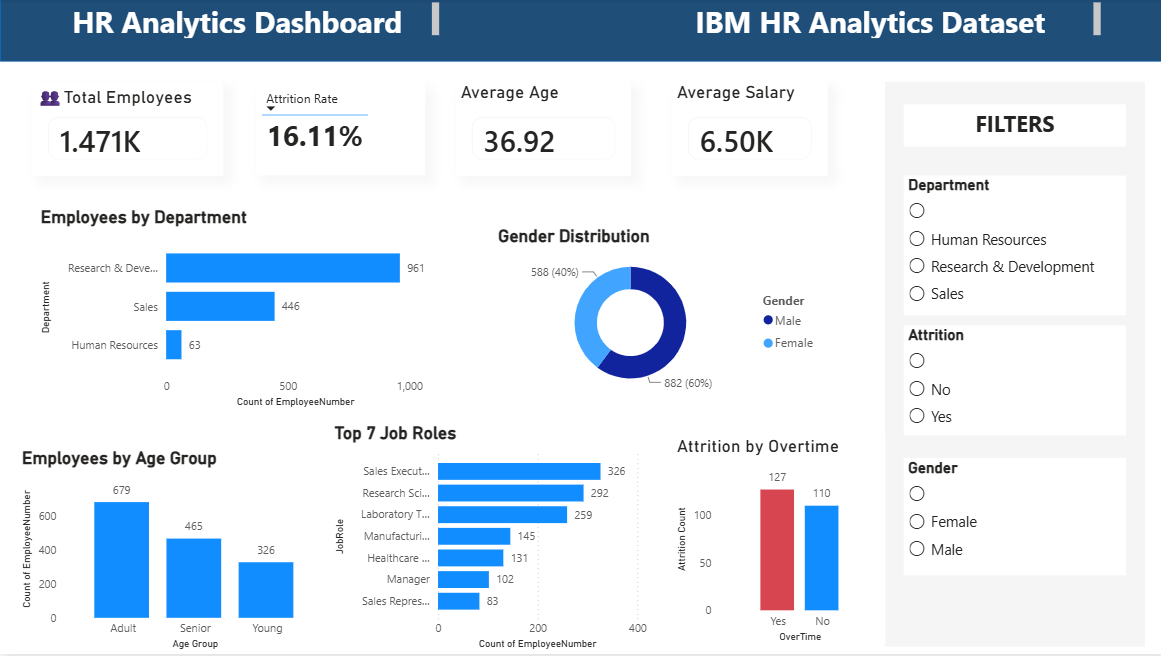

The page's visual inventory and layout, read from the dashboard file:
{"tool":"powerbi","page":{"name":"Page 1","canvas":[1280,720],"ordinal":0},"visuals":[{"type":"shape","box":[0,0,1280.3,70],"z":0},{"type":"shape","box":[971.5,91.9,285.4,620.2],"z":1000},{"type":"cardVisual","title":" 👥Total Employees","fields":{"Data":["Count(HR analysis 1.EmployeeNumber)"]},"box":[35.7,91.9,197.6,102.9],"z":2000},{"type":"cardVisual","title":"Average Age","fields":{"Data":["Avg(HR analysis 1.Age)"]},"box":[500.9,91.9,192.1,102.9],"z":3000},{"type":"cardVisual","title":"Average Salary ","fields":{"Data":["Avg(HR analysis 1.MonthlyIncome)"]},"box":[738.3,91.9,170.2,102.9],"z":4000},{"type":"clusteredBarChart","title":"Employees by Department","fields":{"Category":["HR analysis 1.Department"],"Y":["CountNonNull(HR analysis 1.EmployeeNumber)"]},"box":[39.8,229.2,447.3,225],"z":5000},{"type":"donutChart","title":"Gender Distribution","fields":{"Category":["HR analysis 1.Gender"],"Y":["CountNonNull(HR analysis 1.EmployeeNumber)"]},"box":[542,249.7,366.4,192.1],"z":6000},{"type":"clusteredColumnChart","title":"Employees by Age Group","fields":{"Category":["HR analysis 1.Age Group"],"Y":["CountNonNull(HR analysis 1.EmployeeNumber)"]},"box":[19.2,494,343.1,226.4],"z":7000},{"type":"clusteredBarChart","title":"Top 7 Job Roles","fields":{"Category":["HR analysis 1.JobRole"],"Y":["CountNonNull(HR analysis 1.EmployeeNumber)"]},"box":[362.3,466.6,352.7,253.9],"z":8000},{"type":"listSlicer","fields":{"Values":["HR analysis 1.Department"]},"box":[992.1,194.9,244.3,153.7],"z":9000},{"type":"listSlicer","fields":{"Values":["HR analysis 1.Gender"]},"box":[992.1,505,244.3,129],"z":10000},{"type":"listSlicer","fields":{"Values":["HR analysis 1.Attrition"]},"box":[992.1,359.5,244.3,120.8],"z":11000},{"type":"tableEx","fields":{"Values":["HR analysis 1.Attrition Rate"]},"box":[281.3,94.7,192.1,100.2],"z":12000},{"type":"clusteredColumnChart","title":"Attrition by Overtime","fields":{"Category":["HR analysis 1.OverTime"],"Y":["HR analysis 1.Attrition Count"]},"box":[738.3,480.3,233.3,231.9],"z":14000},{"type":"textbox","box":[992.1,116.6,244.3,46.7],"z":14001},{"type":"textbox","box":[74.1,0,413,49.4],"z":14002},{"type":"textbox","box":[754.7,0,458.3,49.4],"z":14003}]}

Visuals, with their boxes in screenshot pixels (x1, y1, x2, y2), scaled from the page's 1280x720 canvas onto the 1161x656 screenshot:
shape: bbox=[0, 0, 1160, 64]
shape: bbox=[881, 84, 1140, 649]
" 👥Total Employees" cardVisual: bbox=[32, 84, 212, 177]
"Average Age" cardVisual: bbox=[454, 84, 629, 177]
"Average Salary " cardVisual: bbox=[670, 84, 824, 177]
"Employees by Department" clusteredBarChart: bbox=[36, 209, 442, 414]
"Gender Distribution" donutChart: bbox=[492, 228, 824, 403]
"Employees by Age Group" clusteredColumnChart: bbox=[17, 450, 329, 655]
"Top 7 Job Roles" clusteredBarChart: bbox=[329, 425, 649, 655]
listSlicer - HR analysis 1.Department: bbox=[900, 178, 1121, 318]
listSlicer - HR analysis 1.Gender: bbox=[900, 460, 1121, 578]
listSlicer - HR analysis 1.Attrition: bbox=[900, 328, 1121, 438]
tableEx - HR analysis 1.Attrition Rate: bbox=[255, 86, 429, 178]
"Attrition by Overtime" clusteredColumnChart: bbox=[670, 438, 881, 649]
textbox: bbox=[900, 106, 1121, 149]
textbox: bbox=[67, 0, 442, 45]
textbox: bbox=[685, 0, 1100, 45]
